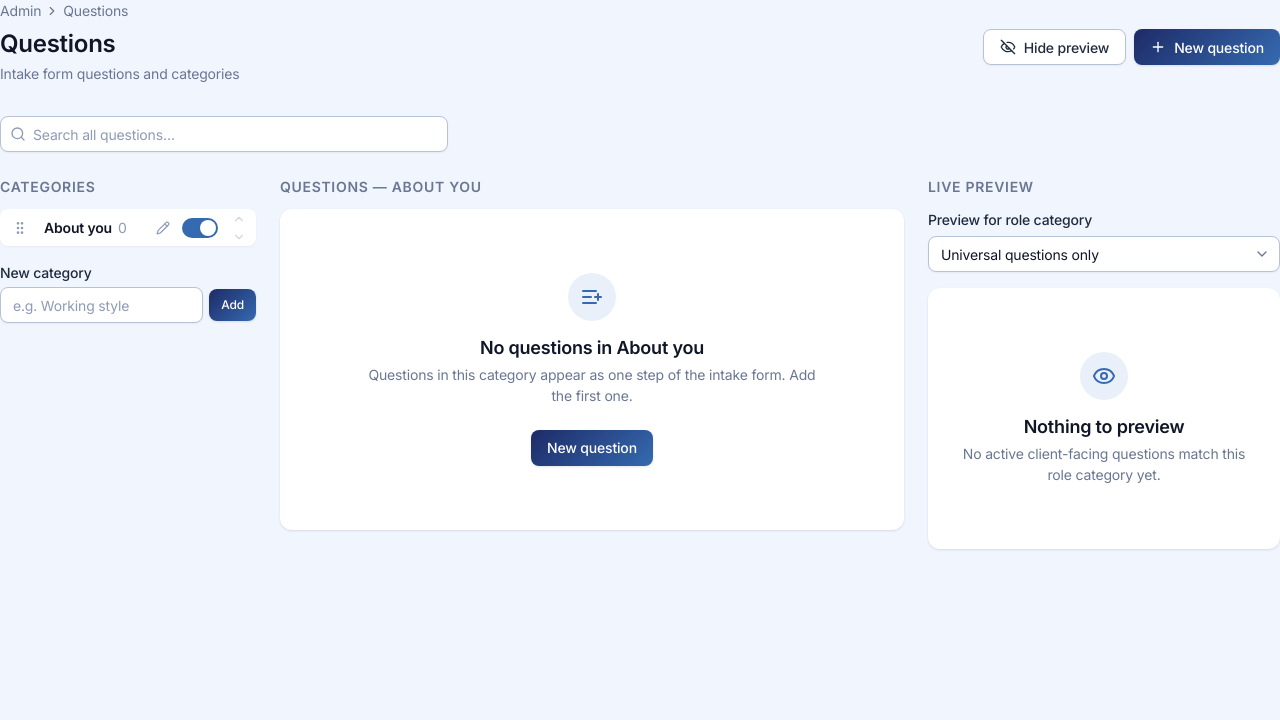
Scenario: validation rules adapt to the question type › pattern presets: URL preset fills the regex and the probe tests values live
Click the 1st button "New question": (1207, 47) [1134,29,1279,65]
(page scrolled)
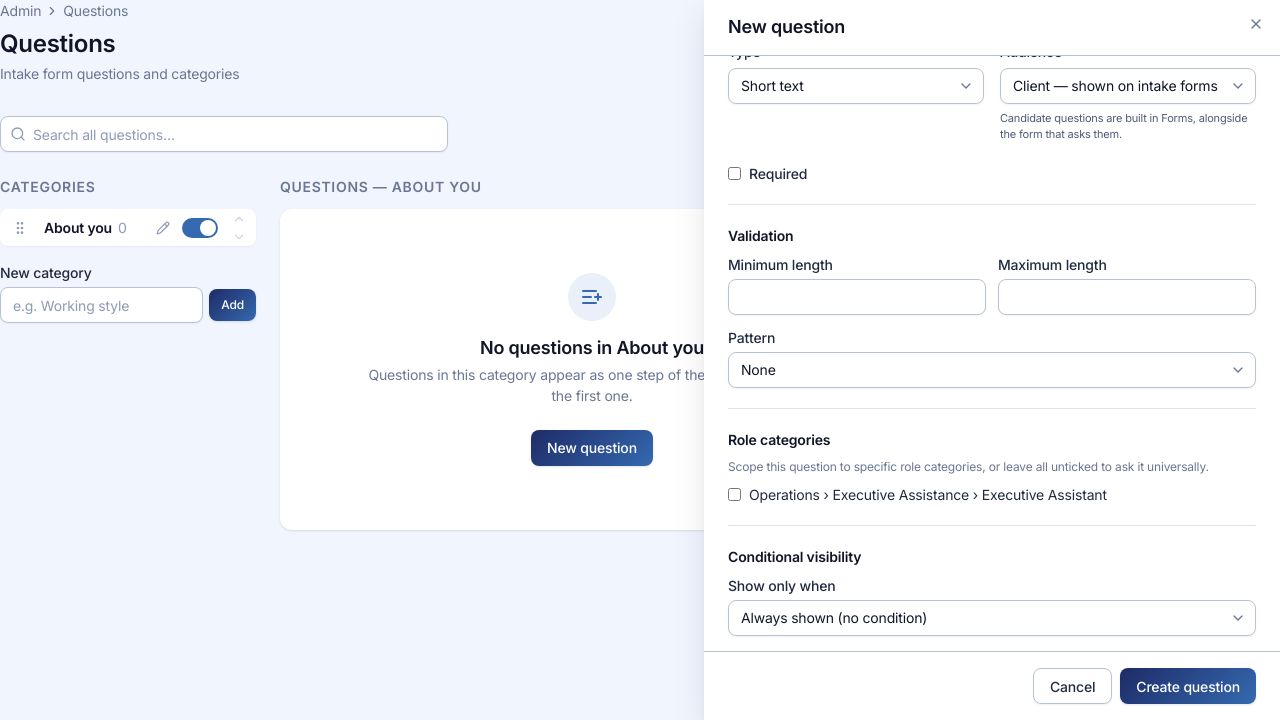
Expected: the field labelled "Test a value" is not shown
Expected: the field labelled "Regular expression" is not shown
Select "URL" in the dropdown labelled "Pattern": (992, 370) [728,352,1256,388]
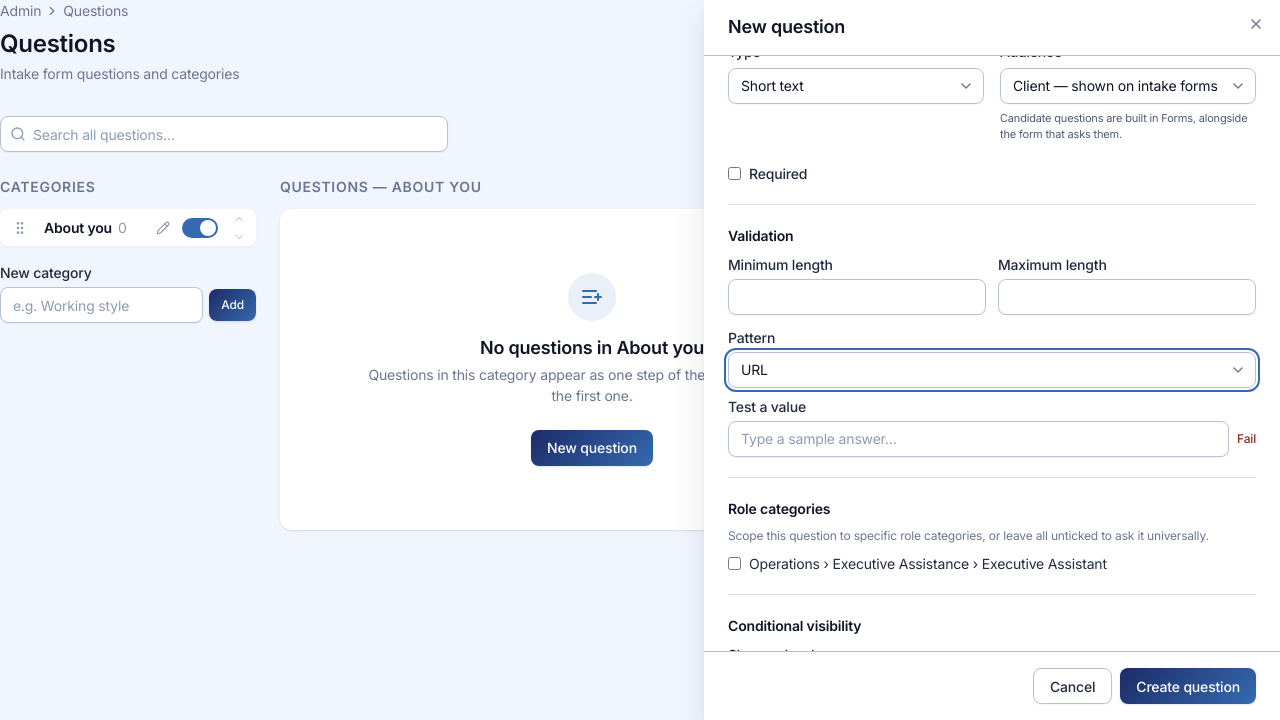
In the field labelled "Test a value": (978, 439) [728,421,1229,457], type "https://example.com"
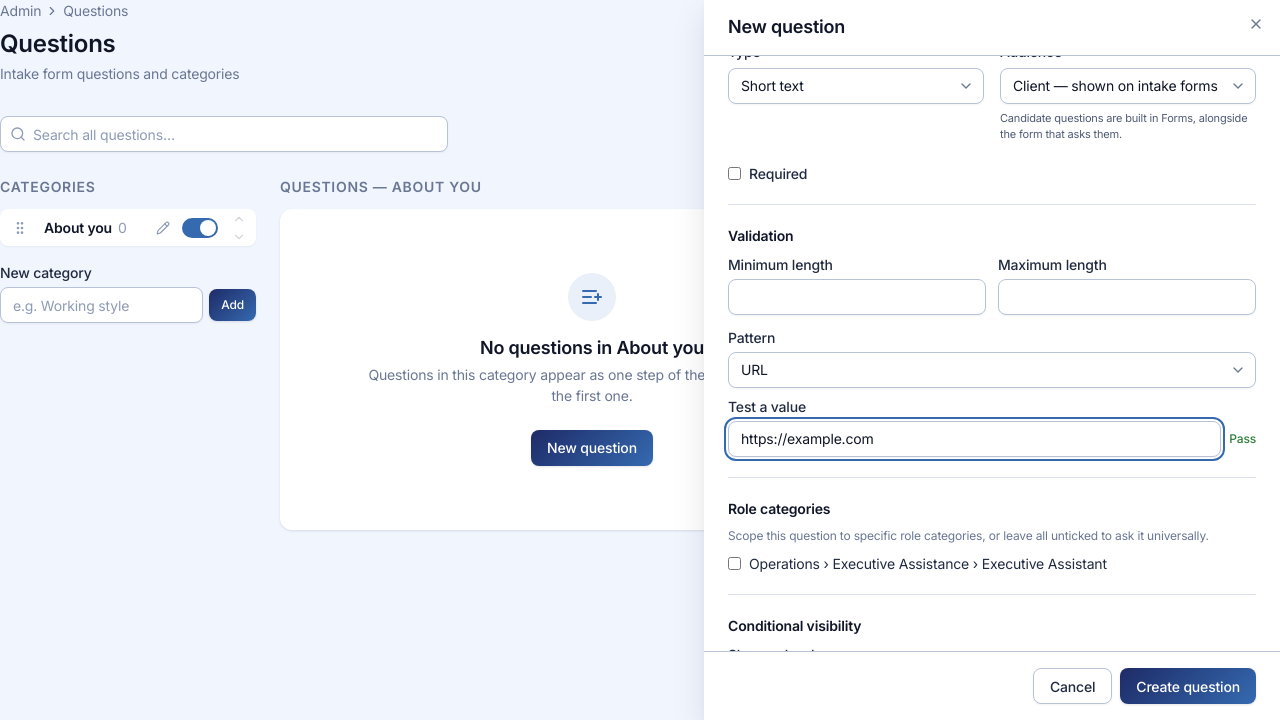
Expected: the text "Pass" is shown, [1229,430,1256,448]
Clear the field labelled "Test a value": (975, 439) [728,421,1221,457]
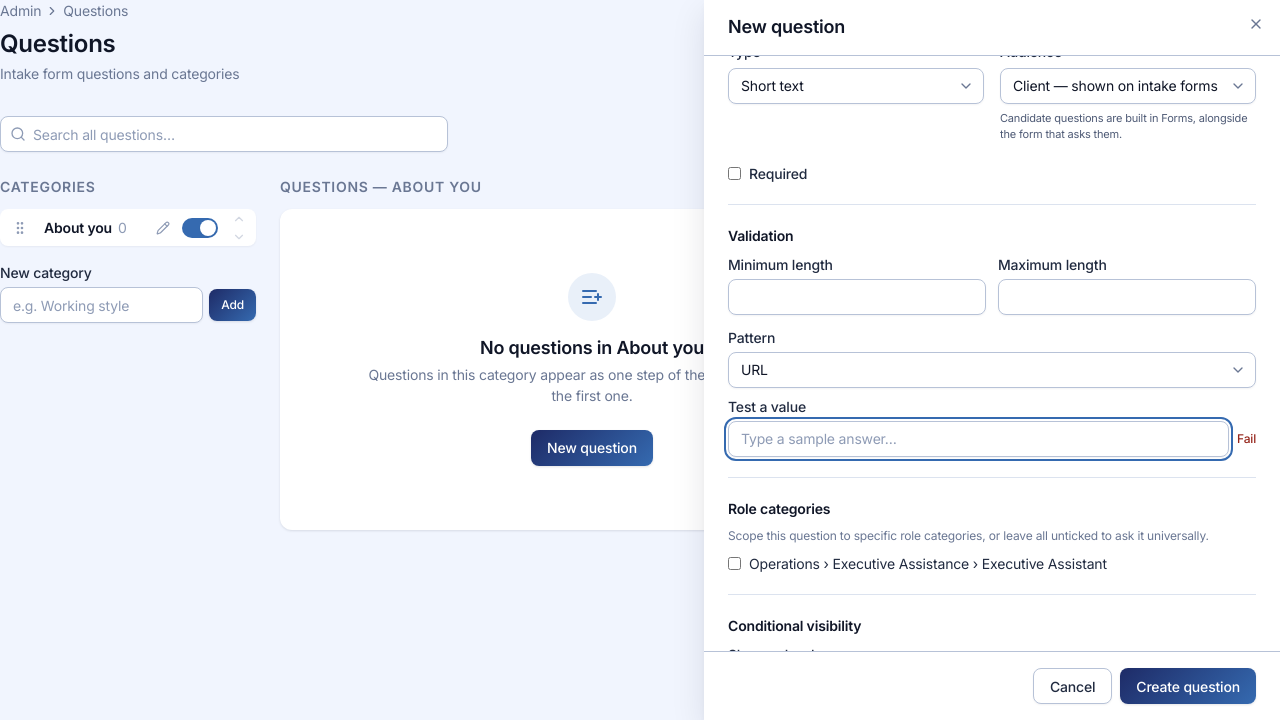
In the field labelled "Test a value": (978, 439) [728,421,1229,457], type "not a url"
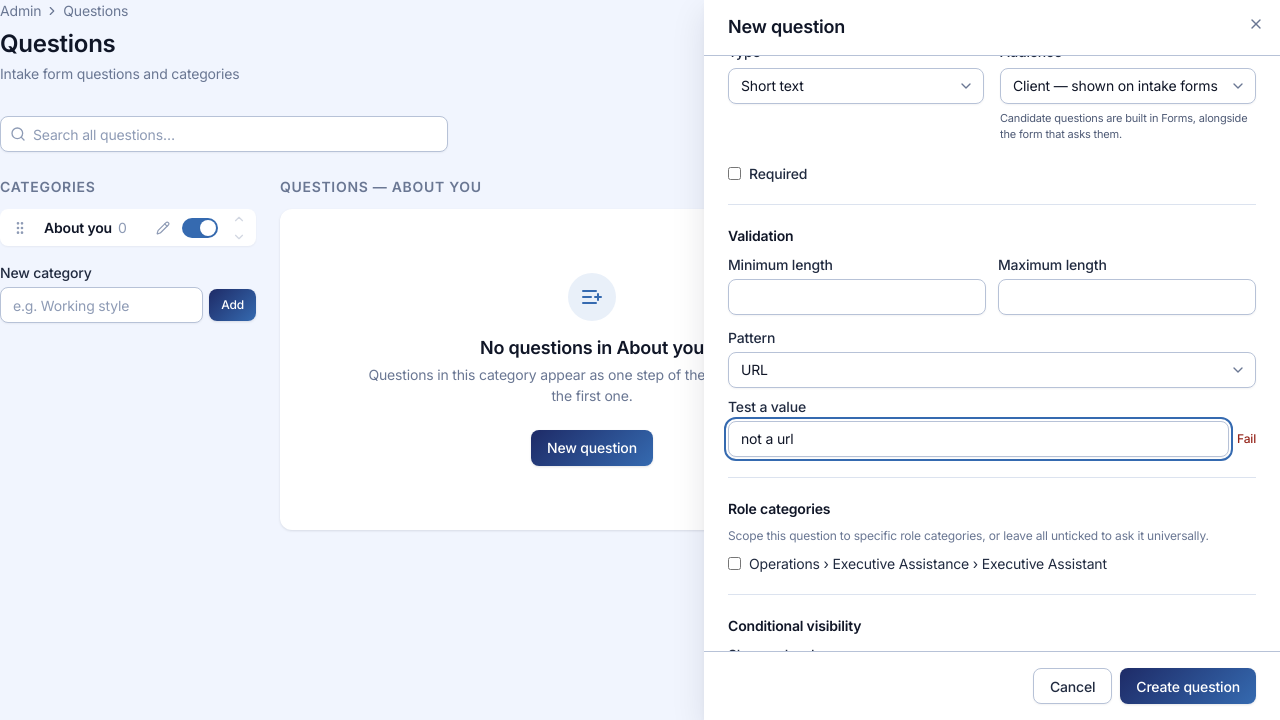
Expected: the text "Fail" is shown, [1237,430,1256,448]
Select "Custom regex" in the dropdown labelled "Pattern": (992, 370) [728,352,1256,388]
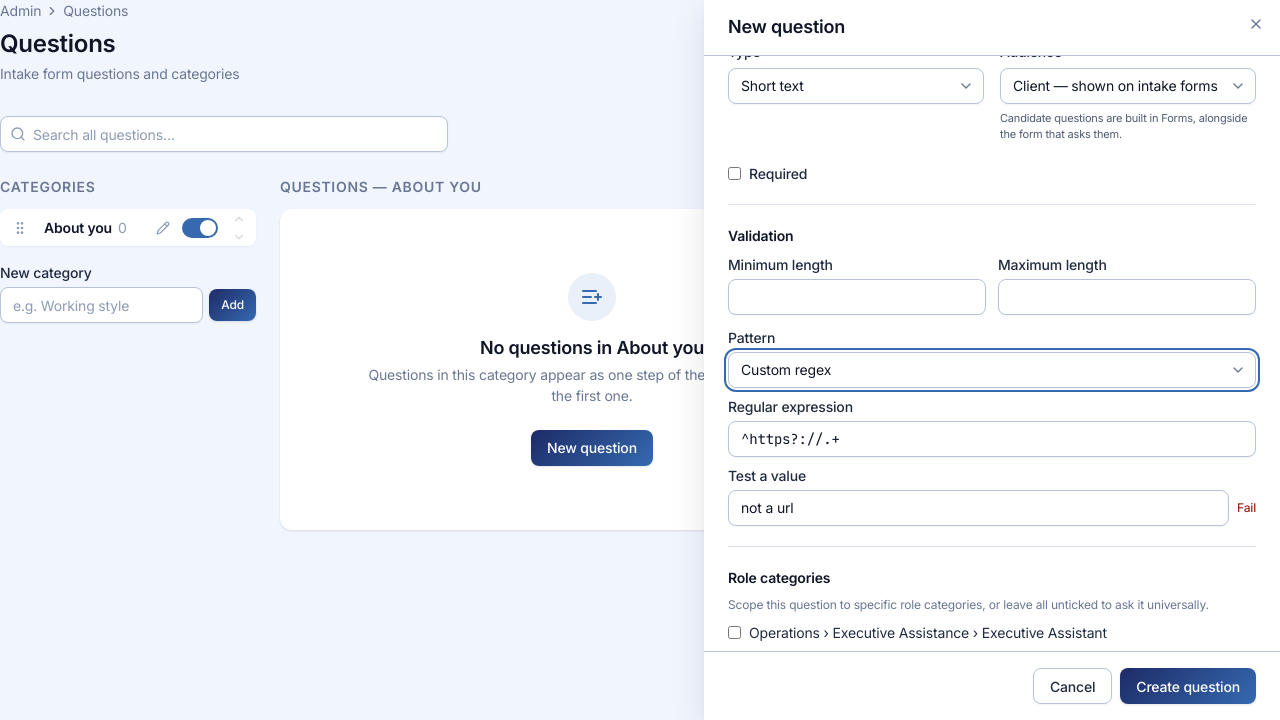
Expected: the field labelled "Regular expression" is shown, [728,421,1256,457]
